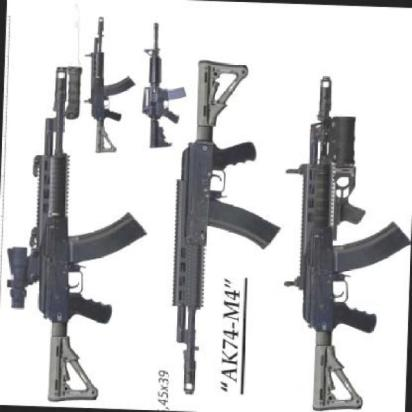Gun: (3, 61, 144, 410), (160, 53, 298, 402), (291, 72, 411, 412), (77, 15, 146, 158), (131, 18, 197, 152)
